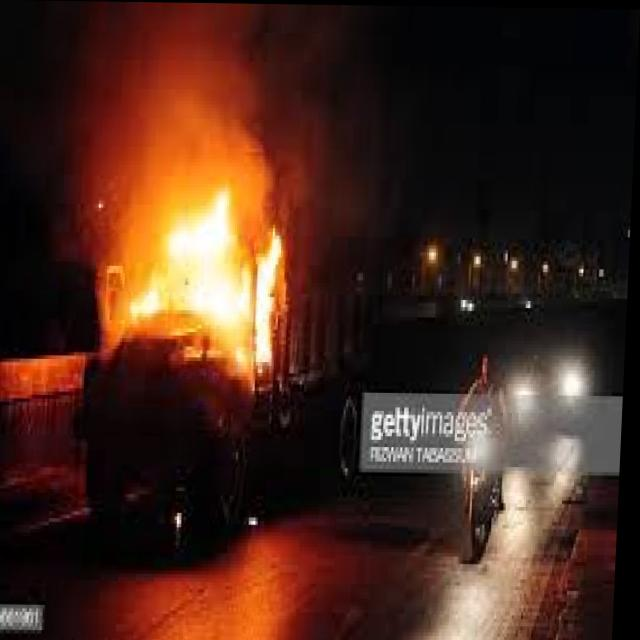fire: (87, 142, 298, 398)
